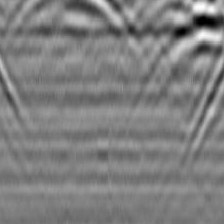Utility: (139, 0, 224, 101), (4, 1, 133, 56)
